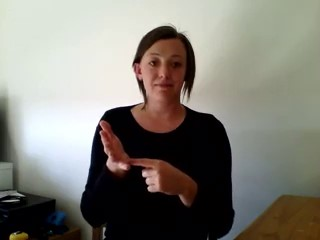T: (82, 113, 202, 204)
